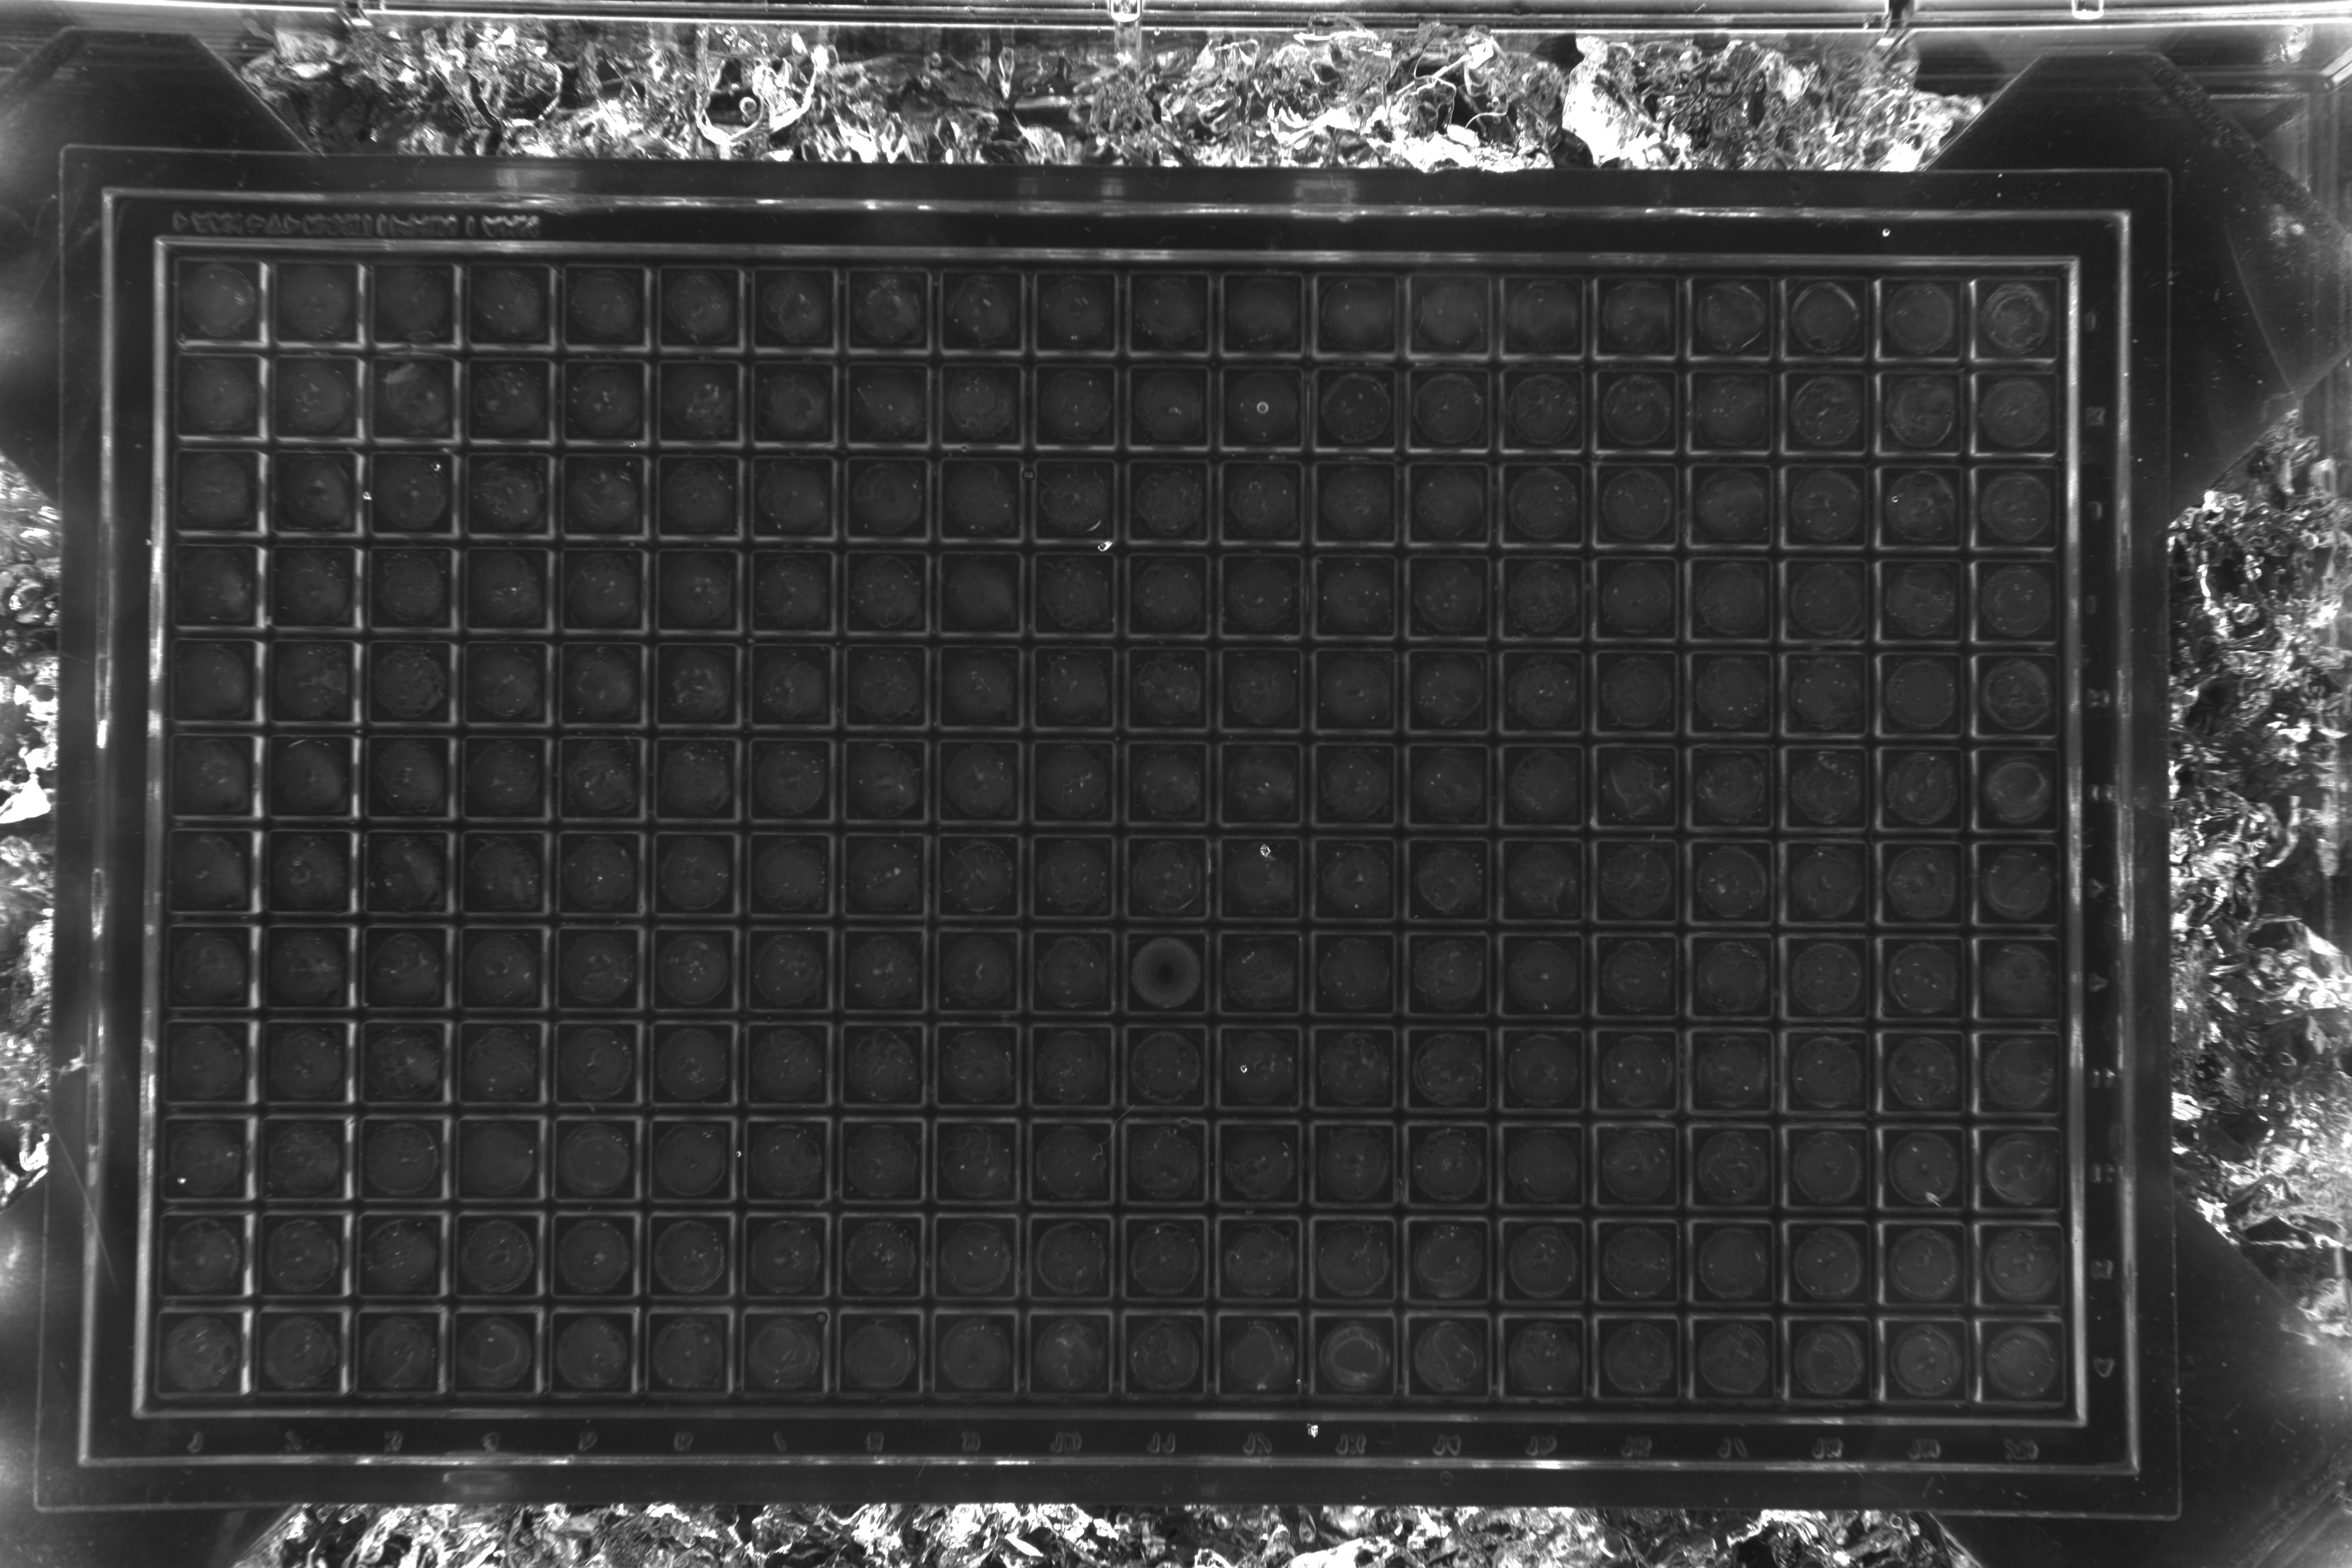WM_well: (201, 845, 290, 933), (688, 1043, 777, 1130), (786, 1043, 875, 1130), (789, 364, 878, 451), (303, 360, 390, 448), (390, 1242, 478, 1330), (490, 1143, 577, 1230), (497, 749, 584, 836), (684, 1339, 772, 1426), (688, 1141, 775, 1228), (693, 460, 780, 548), (983, 752, 1071, 840), (983, 850, 1071, 938), (1080, 850, 1167, 938), (1272, 269, 1360, 357), (1272, 367, 1360, 455), (1272, 560, 1360, 647), (1370, 948, 1458, 1036), (1465, 269, 1552, 357), (1564, 656, 1652, 744), (1762, 852, 1850, 940), (1762, 950, 1850, 1038), (1858, 658, 1946, 745), (1963, 1251, 2051, 1339), (2058, 658, 2145, 745)
